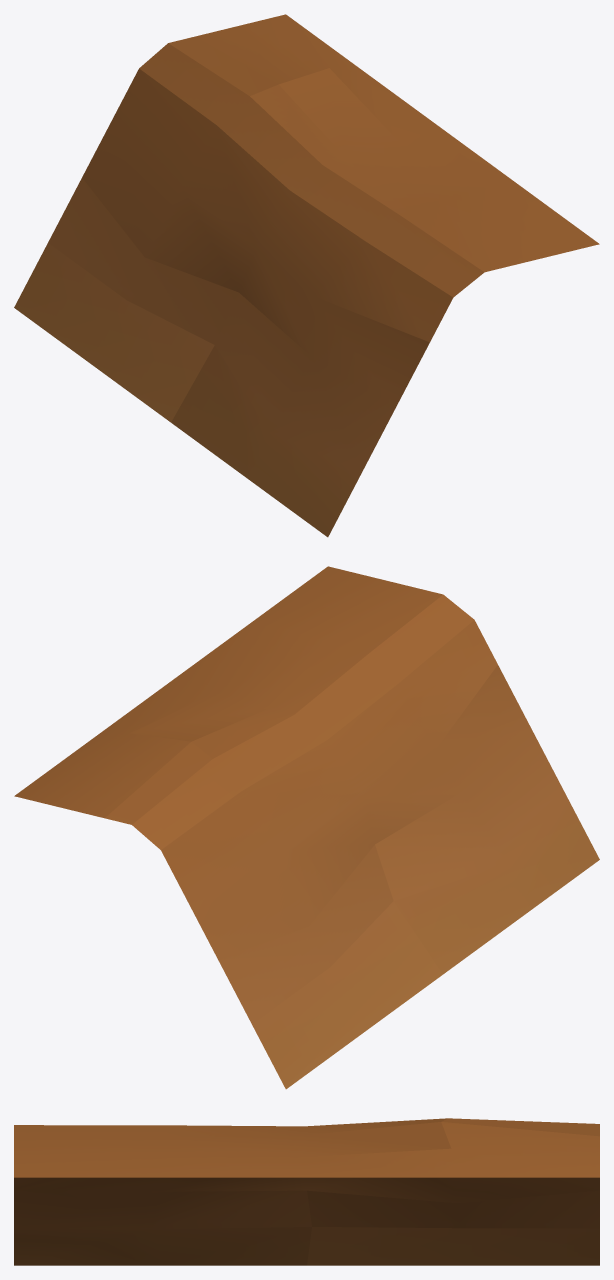
The model's file is cGround_C_Side_1__.obj.
3 views of the same model, one above another, from view 1: azimuth 30°, elevation 25°; view 2: azimuth 150°, elevation 25°; view 3: azimuth 270°, elevation 25° (orthographic). The views are drawn at different scales.
Visible parts, largest first — view 1: cGround_C_Side_1__; view 2: cGround_C_Side_1__; view 3: cGround_C_Side_1__.
Part boxes in pixels (x1,y1,x2,y2): cGround_C_Side_1__: [14, 14, 599, 537]; cGround_C_Side_1__: [14, 566, 599, 1089]; cGround_C_Side_1__: [14, 1118, 599, 1265].
Size of the model in its own units: 4 by 3.4 by 8.
